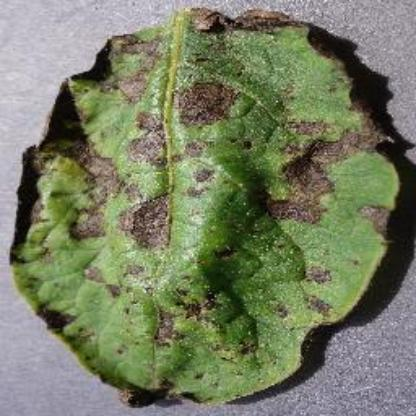Early-Blight: (11, 6, 406, 406)
